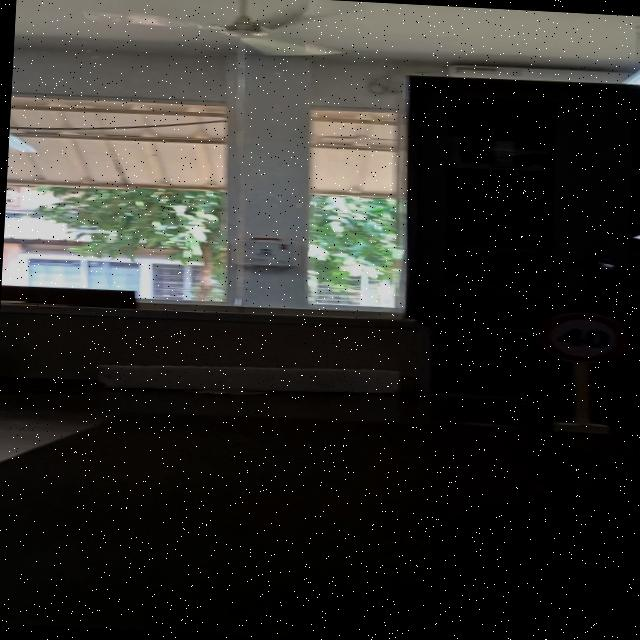Speed40: (532, 302, 636, 369)
